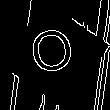O_S: (29, 27, 81, 83)
